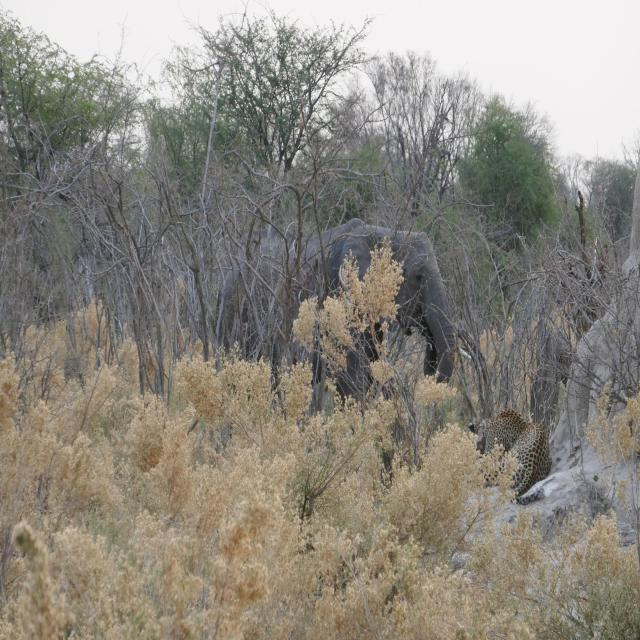Leopard: (470, 402, 552, 509)
